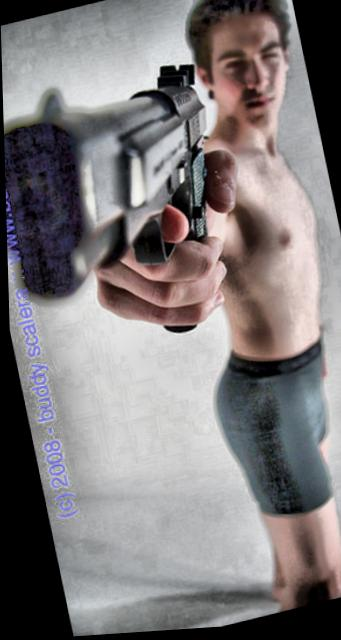pistol: (2, 56, 244, 378)
